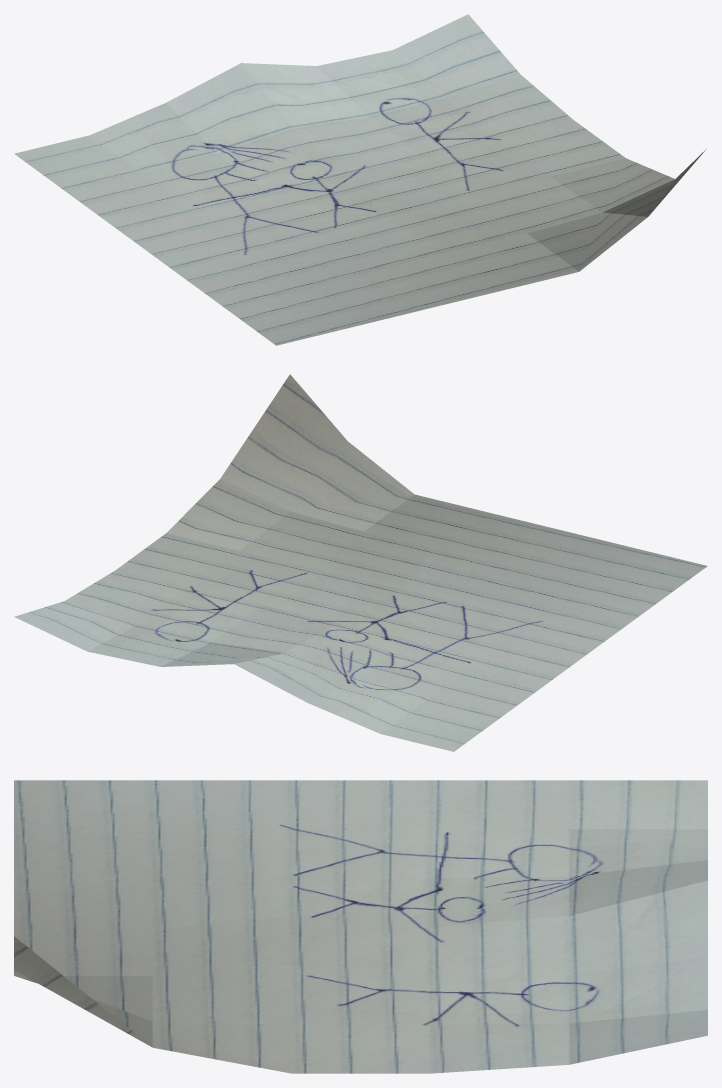
3 views of the same model, one above another, from view 1: azimuth 30°, elevation 25°; view 2: azimuth 150°, elevation 25°; view 3: azimuth 270°, elevation 25° (orthographic). The views are drawn at different scales.
Parts seen in each view (by area): view 1: SM_post_it_notes; view 2: SM_post_it_notes; view 3: SM_post_it_notes.
Boxes of the visible parts, x1,y1,x2,y2 form: SM_post_it_notes: (14, 14, 706, 345); SM_post_it_notes: (14, 374, 707, 751); SM_post_it_notes: (14, 780, 707, 1073).
Bounding box in the file's own units: 7.6 × 1.49 × 7.6.
